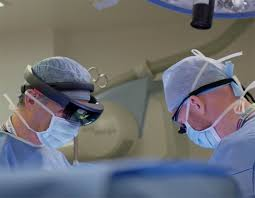hololens: (16, 63, 105, 129)
